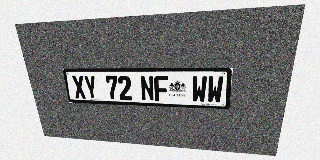2: (117, 76, 132, 100)
7: (105, 75, 120, 100)
F: (154, 76, 168, 102)
N: (140, 76, 154, 101)
W: (207, 76, 224, 103), (191, 76, 207, 103)
X: (71, 75, 87, 99)
Y: (83, 75, 98, 99)
